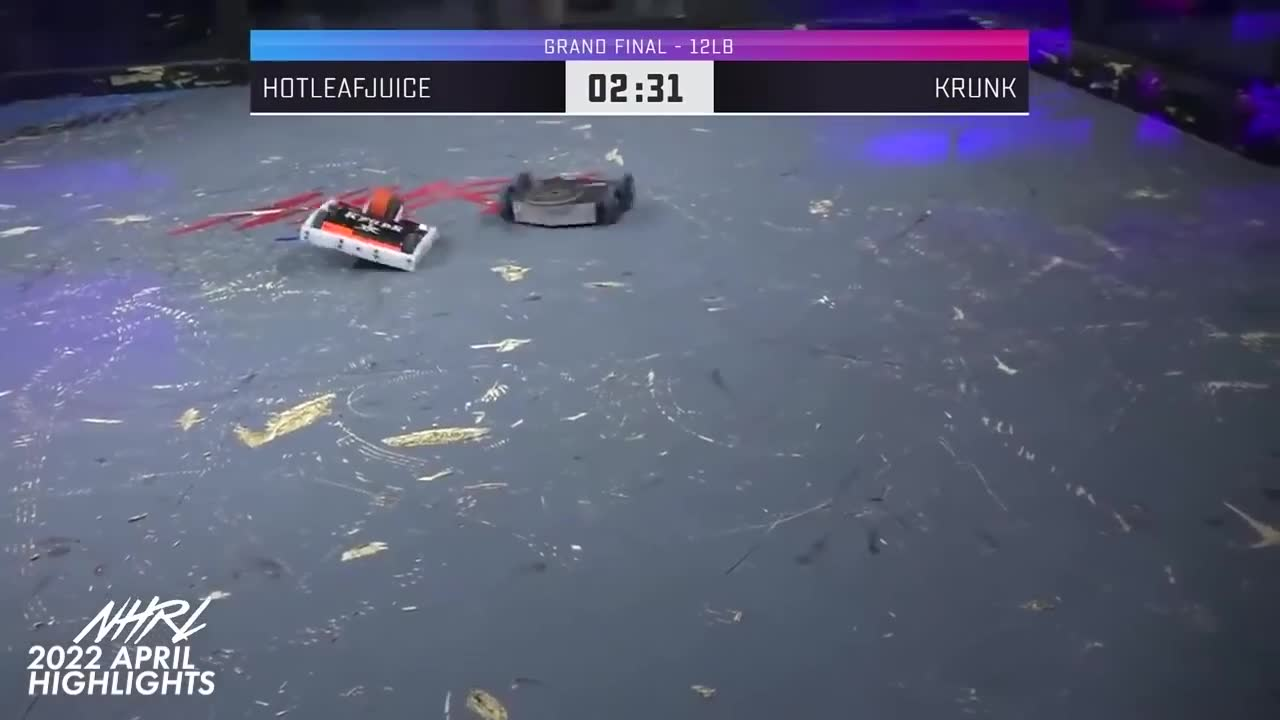combatbot: (298, 186, 441, 272), (493, 168, 638, 228)
